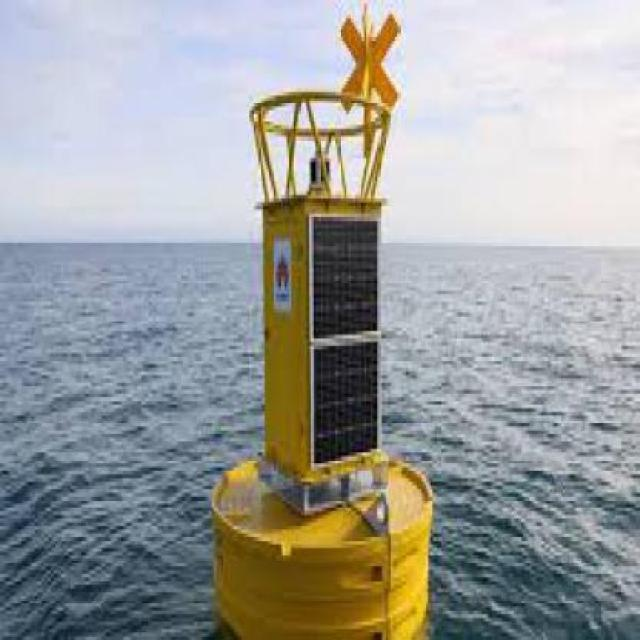buoy: (202, 1, 445, 638)
